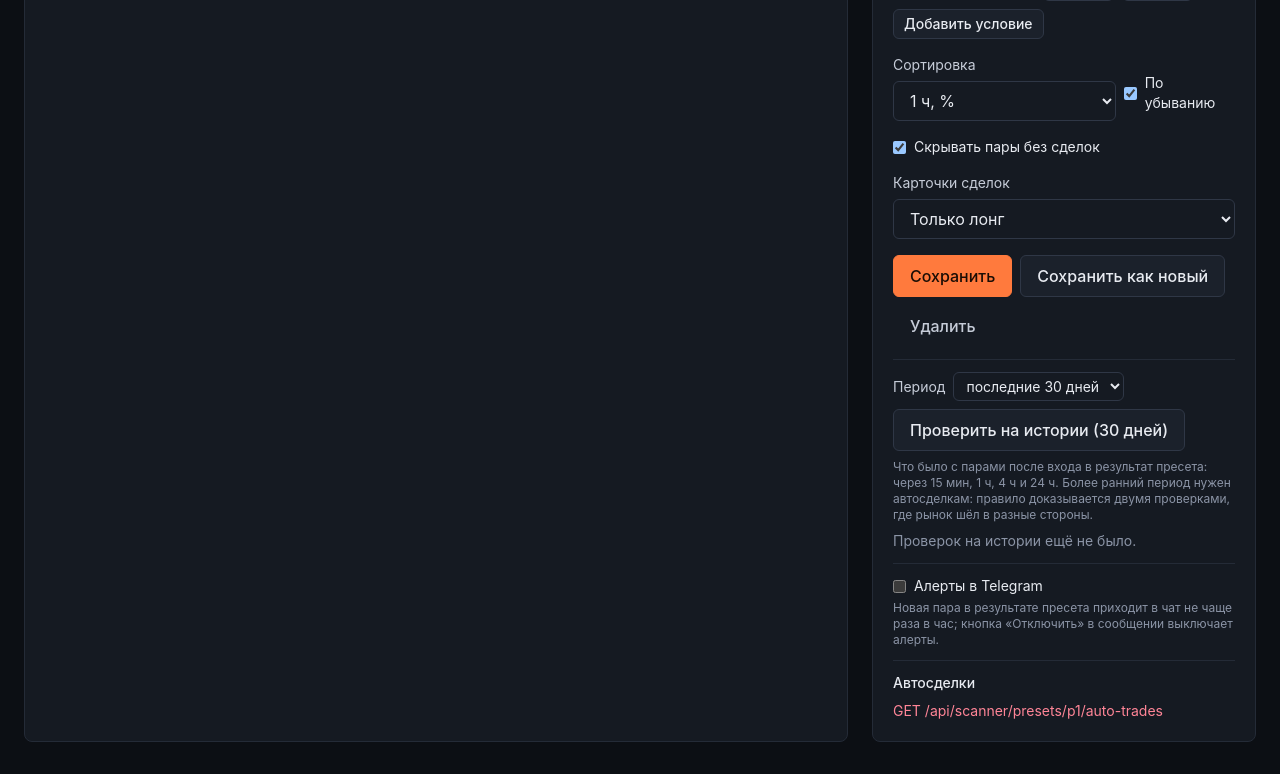
Test: scanner page › switches on the alerts of an own preset and warns without a linked chat
(page scrolled)
Click the checkbox labelled "Алерты в Telegram": (900, 586) [893,580,906,592]
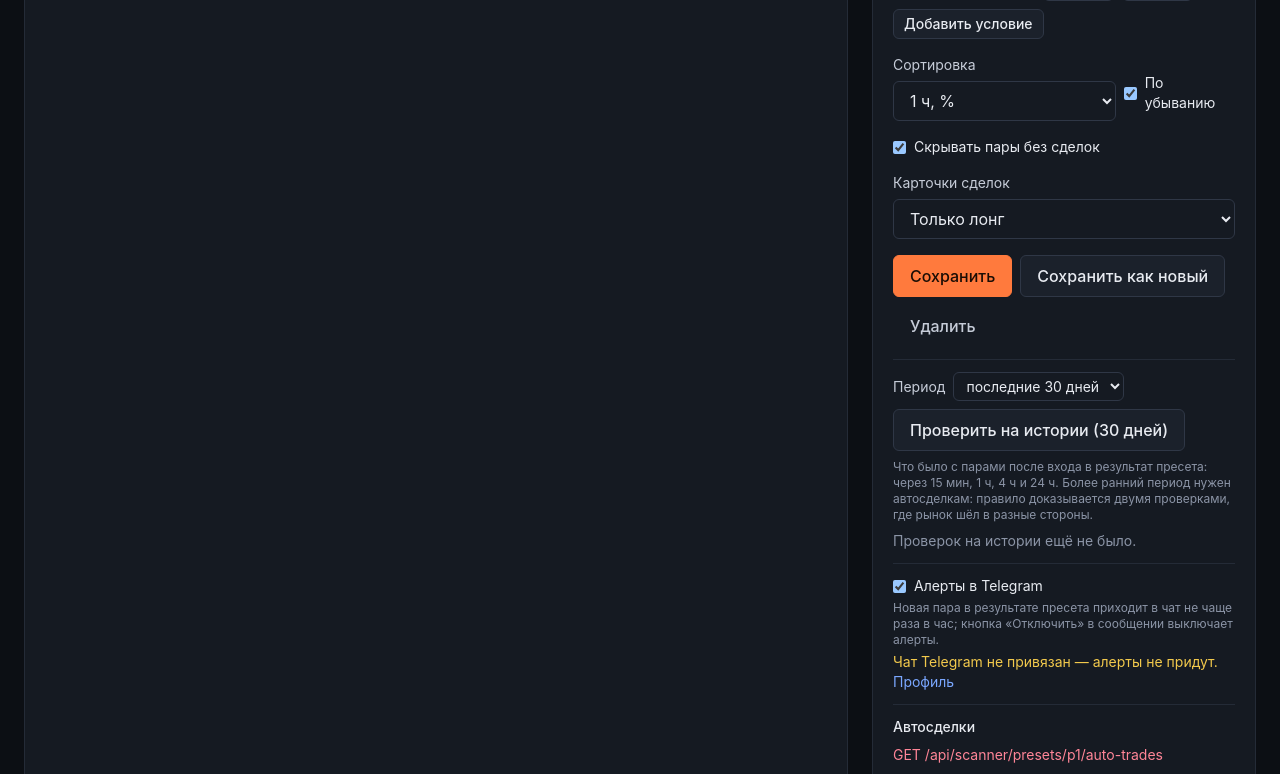
Check: the checkbox labelled "Алерты в Telegram" is checked, box [893,580,906,592]
Check: the text "Чат Telegram не привязан — алерты не придут. Профиль" is shown, box [893,652,1235,692]
